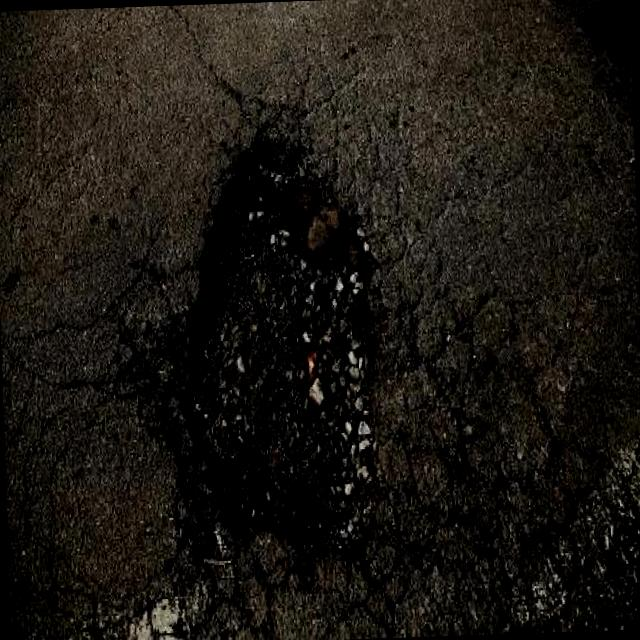pothole: (150, 123, 398, 564)
